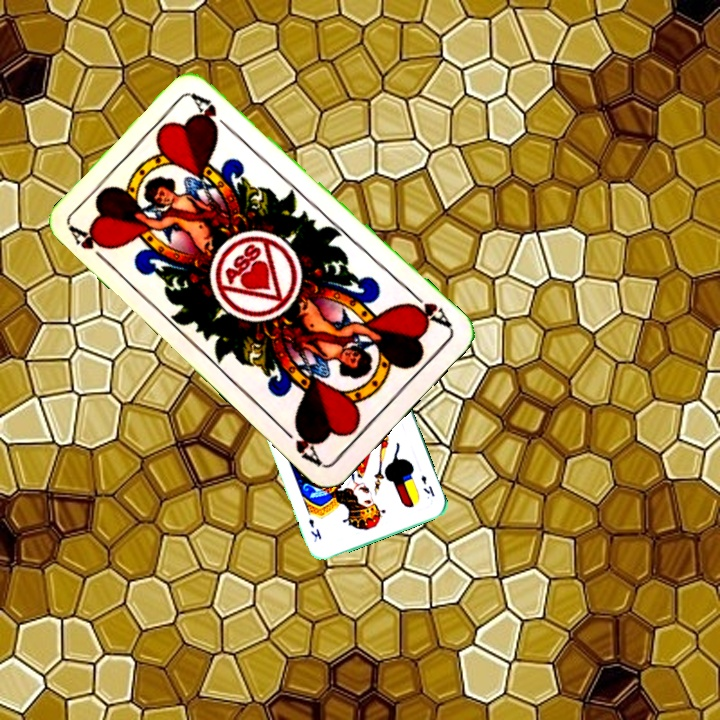EK: (417, 470, 437, 499)
HA: (403, 286, 455, 331), (66, 222, 114, 269)
